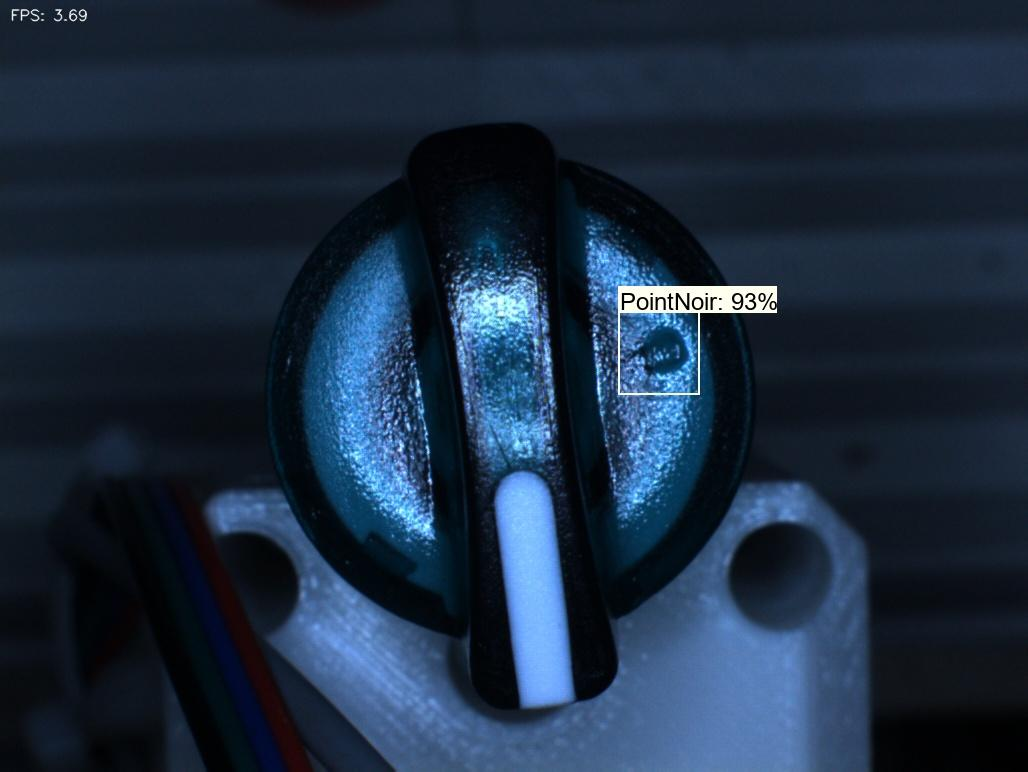Choc: (625, 311, 701, 399)
